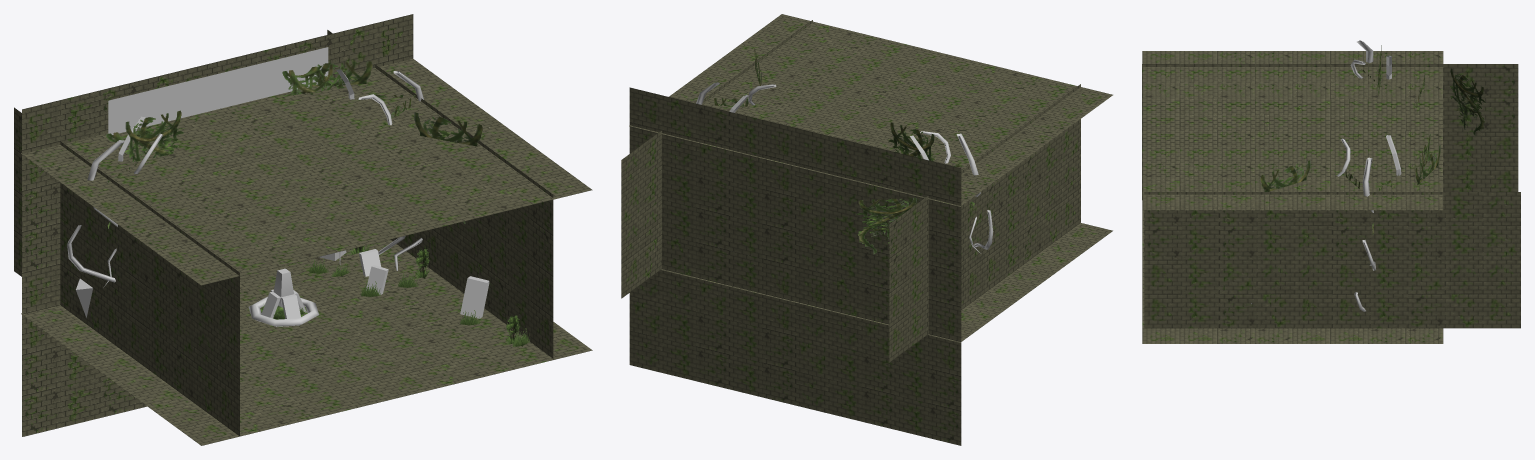
Rendered from start_background141119_003.FBX.
The picture shows the model from 3 angles, left to right: view 1: azimuth 30°, elevation 25°; view 2: azimuth 150°, elevation 25°; view 3: azimuth 270°, elevation 25°; orthographic projection. The views are drawn at different scales.
Parts seen in each view (by area): view 1: 316, 309, 310, 317, 311, Plane026, Box065_ncl1_1, Plane030, Plane023, Plane027, Box052_ncl1_1, Plane021; view 2: 317, 316, 310, 311, 309, Plane029, Plane030; view 3: 311, 316, 310, 309, Plane029, Plane027.
Part boxes in pixels (x1,y1,x2,y2): 316: [21, 59, 592, 285]; 309: [21, 239, 592, 445]; 310: [14, 107, 239, 436]; 317: [22, 14, 413, 436]; 311: [327, 30, 553, 358]; Plane026: [108, 47, 328, 134]; Box065_ncl1_1: [248, 268, 319, 326]; Plane030: [124, 110, 183, 162]; Plane023: [282, 62, 345, 96]; Plane027: [414, 112, 482, 223]; Box052_ncl1_1: [460, 276, 489, 318]; Plane021: [312, 61, 372, 86]; 317: [629, 87, 961, 445]; 316: [629, 14, 1112, 206]; 310: [889, 84, 1080, 362]; 311: [621, 20, 812, 298]; 309: [661, 223, 1112, 342]; Plane029: [856, 197, 916, 254]; Plane030: [888, 122, 934, 161]; 311: [1144, 192, 1520, 328]; 316: [1142, 51, 1443, 210]; 310: [1142, 64, 1518, 199]; 309: [1142, 210, 1443, 343]; Plane029: [1450, 68, 1485, 136]; Plane027: [1260, 160, 1310, 191].
Size of the model in its own units: 40.02 by 32 by 40.26.
